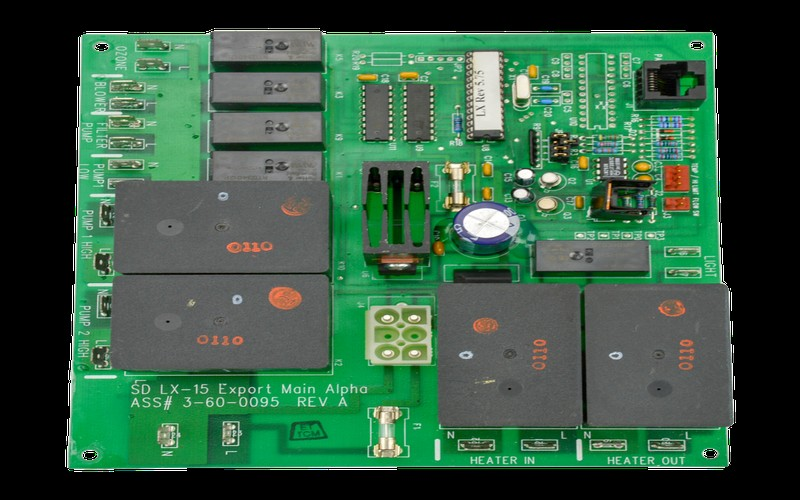Cirtuit-Board: (62, 27, 732, 479)
